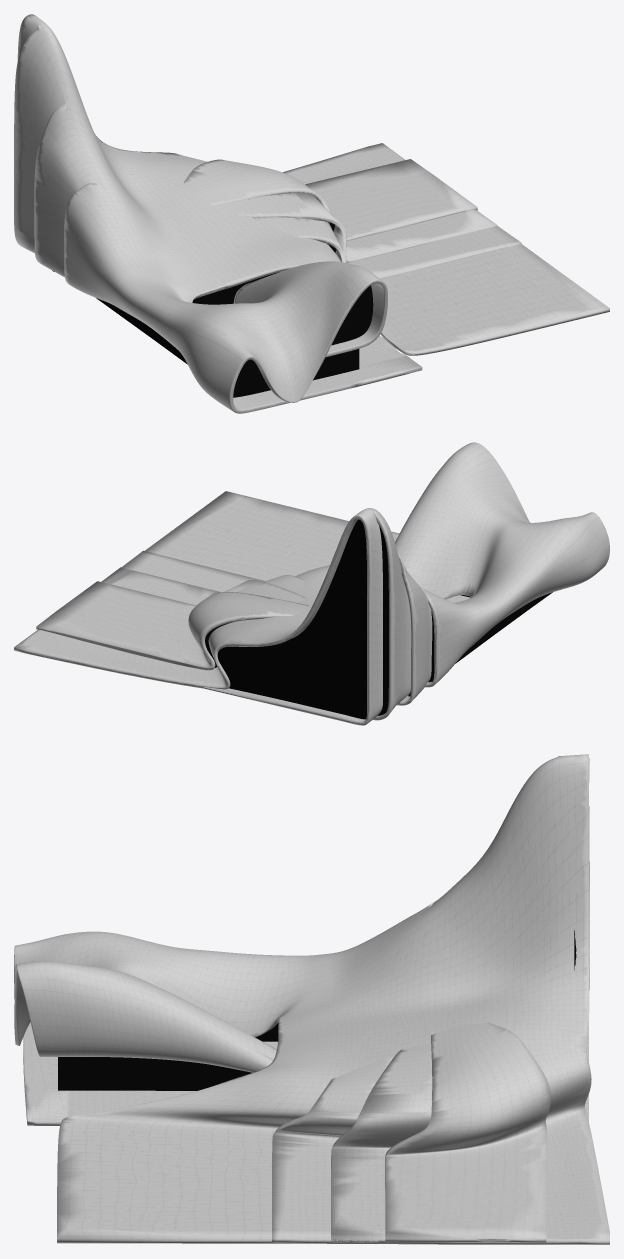
File: heydar.glb
3 renders of one model, top to bottom at view 1: azimuth 30°, elevation 25°; view 2: azimuth 150°, elevation 25°; view 3: azimuth 270°, elevation 25°, orthographic. The views are drawn at different scales.
Parts seen in each view (by area): view 1: main, windows; view 2: main, windows; view 3: main, windows.
Boxes of the visible parts, x1,y1,x2,y2 form: main: (14, 14, 609, 413); windows: (52, 138, 373, 397); main: (14, 442, 609, 725); windows: (205, 519, 552, 719); main: (14, 754, 609, 1244); windows: (58, 930, 576, 1090).
Size of the model in its own units: 38.98 by 21.03 by 40.85.
2 materials, 1 textured.
